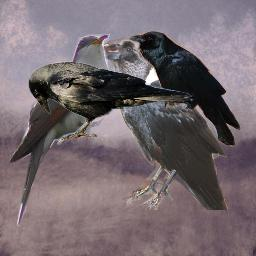Crow: (96, 36, 228, 210), (28, 61, 194, 145), (127, 31, 241, 147)
Cuckoo: (8, 34, 110, 229)
